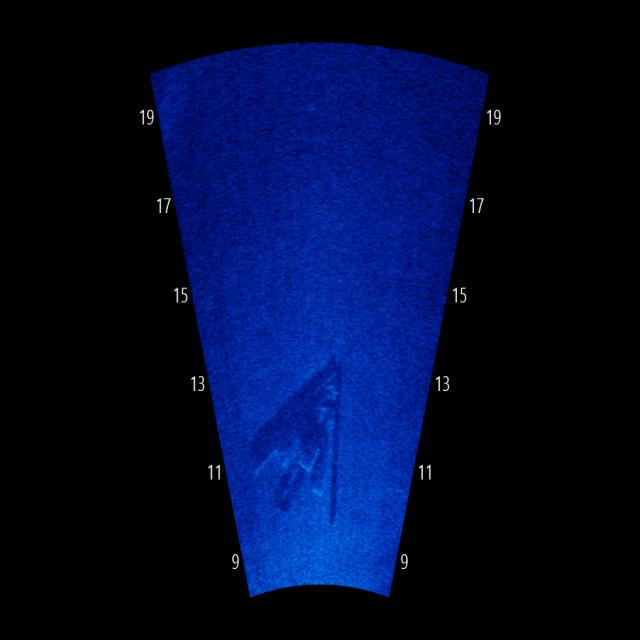triangle: (242, 351, 356, 544)
